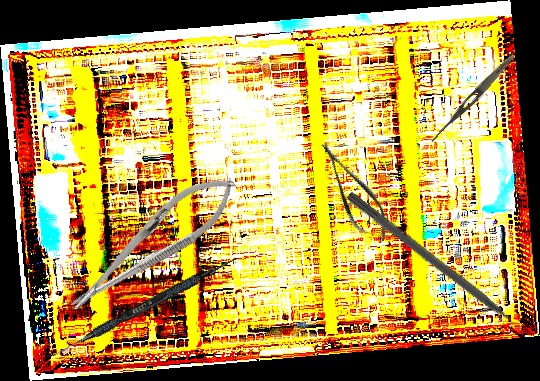Dressing Forceps: (427, 51, 518, 147)
Micro Scissor: (309, 133, 399, 251)
Needle Holder: (57, 161, 248, 326)
Pusher: (344, 190, 534, 343)
Spatula Surgical: (45, 250, 239, 366)
